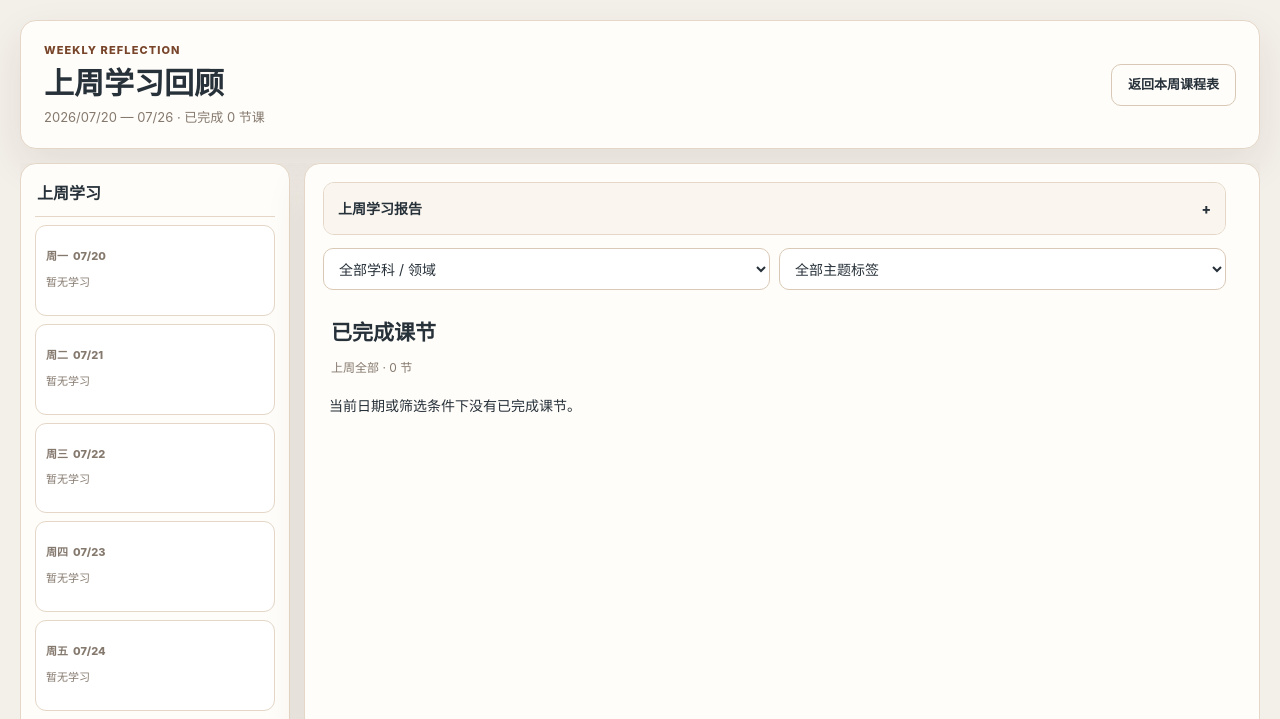
HistoryPage › retries a failed weekly report from the circular control and shows generation progress
This screenshot has width=1280, height=719.
Expected: the heading "上周学习回顾" is shown, [44,65,224,101]
Click the button "上周学习报告 +" at (380, 209), box [324,183,1225,234]
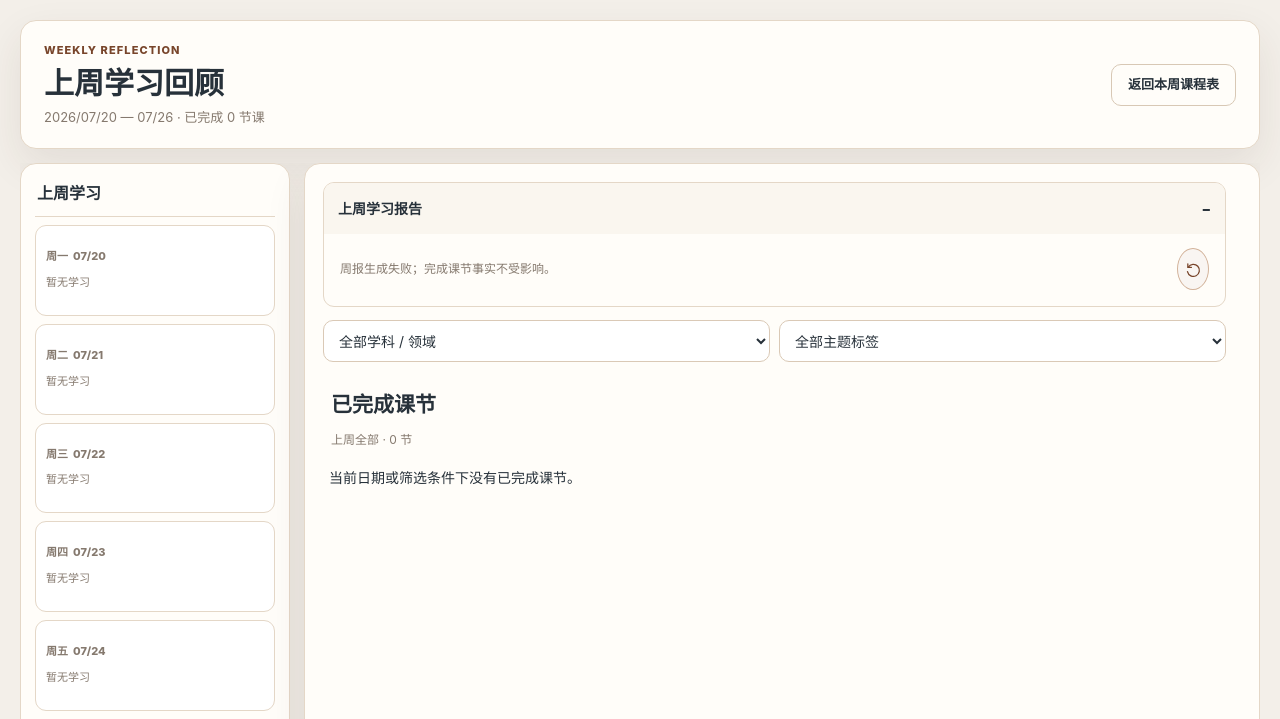
Click the button named "重新生成上周学习报告" at (1193, 269), box [1177,248,1209,290]
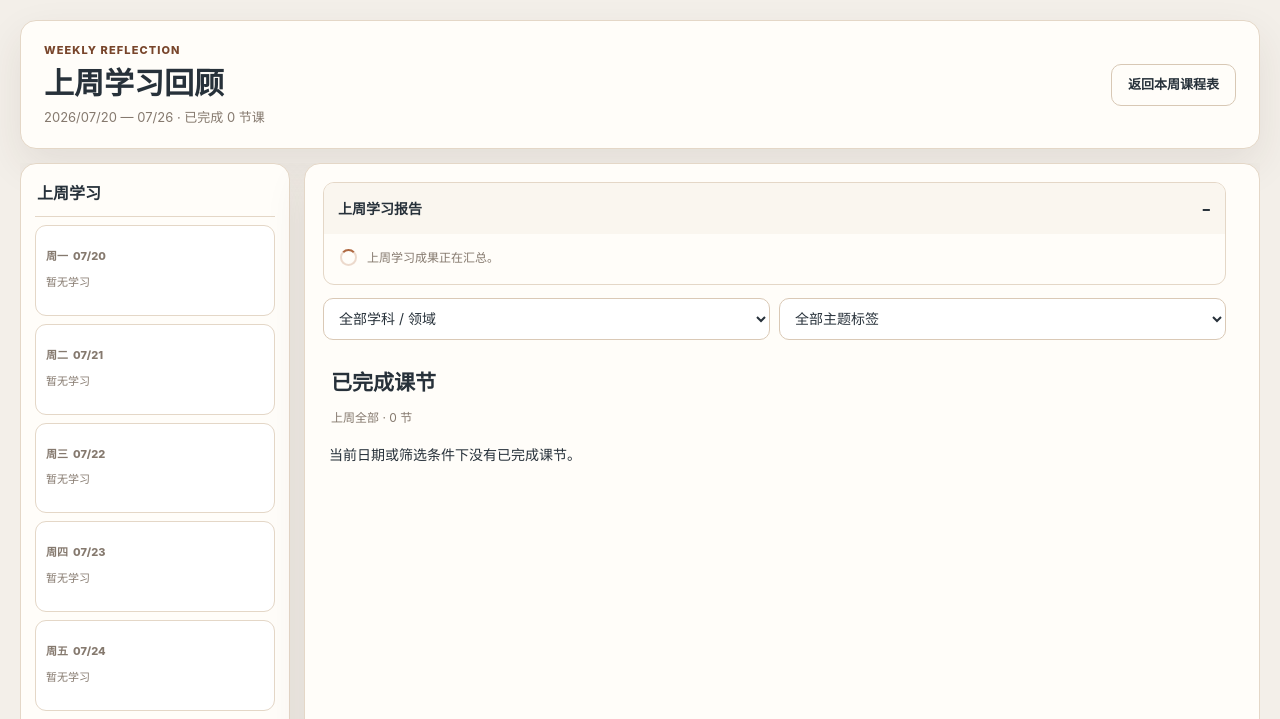
Expected: the message shows "上周学习成果正在汇总", [367,250,499,265]
